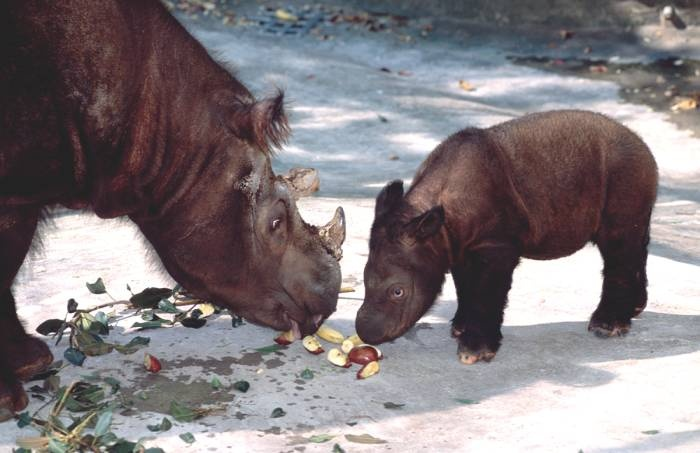rhino: (1, 1, 348, 417), (354, 108, 656, 362)
